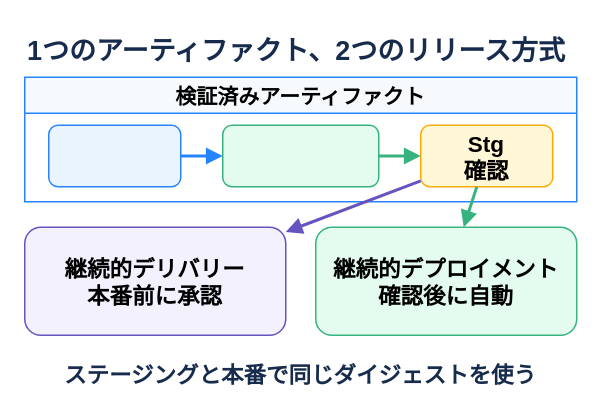
Image size: 605x411. Some labels were removed from this diagram. The centre of each missing label's shape, as x and y in pixels:
"ダイジェスト sha256…" belongs at pixel 300 155.
"一度だけ ビルド" belongs at pixel 114 155.
